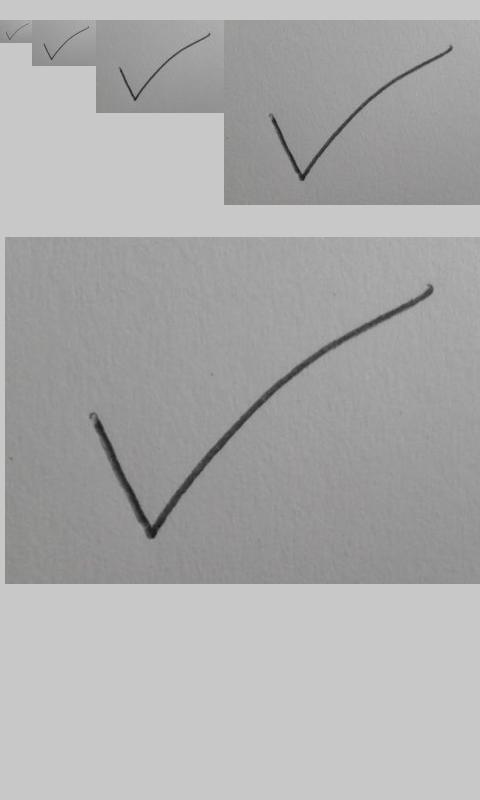check_box: (87, 283, 436, 542), (269, 45, 454, 181), (118, 32, 211, 101), (43, 26, 90, 60), (6, 23, 29, 40)
